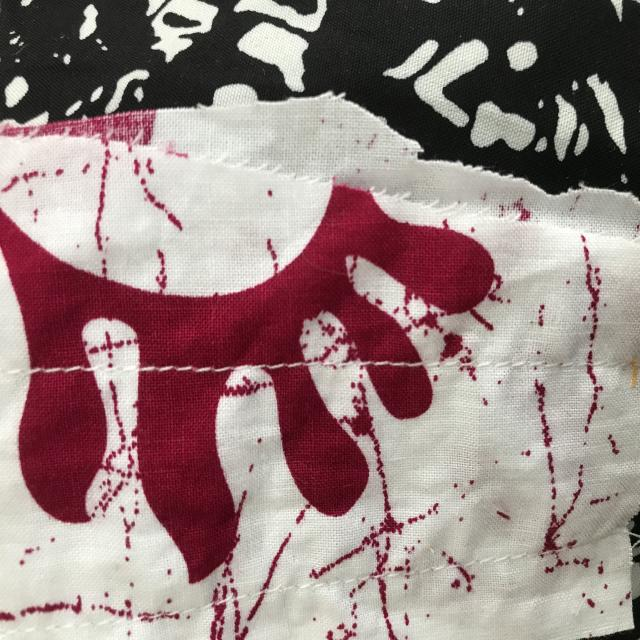good: (146, 354, 205, 394), (31, 354, 84, 386), (476, 552, 540, 566)
